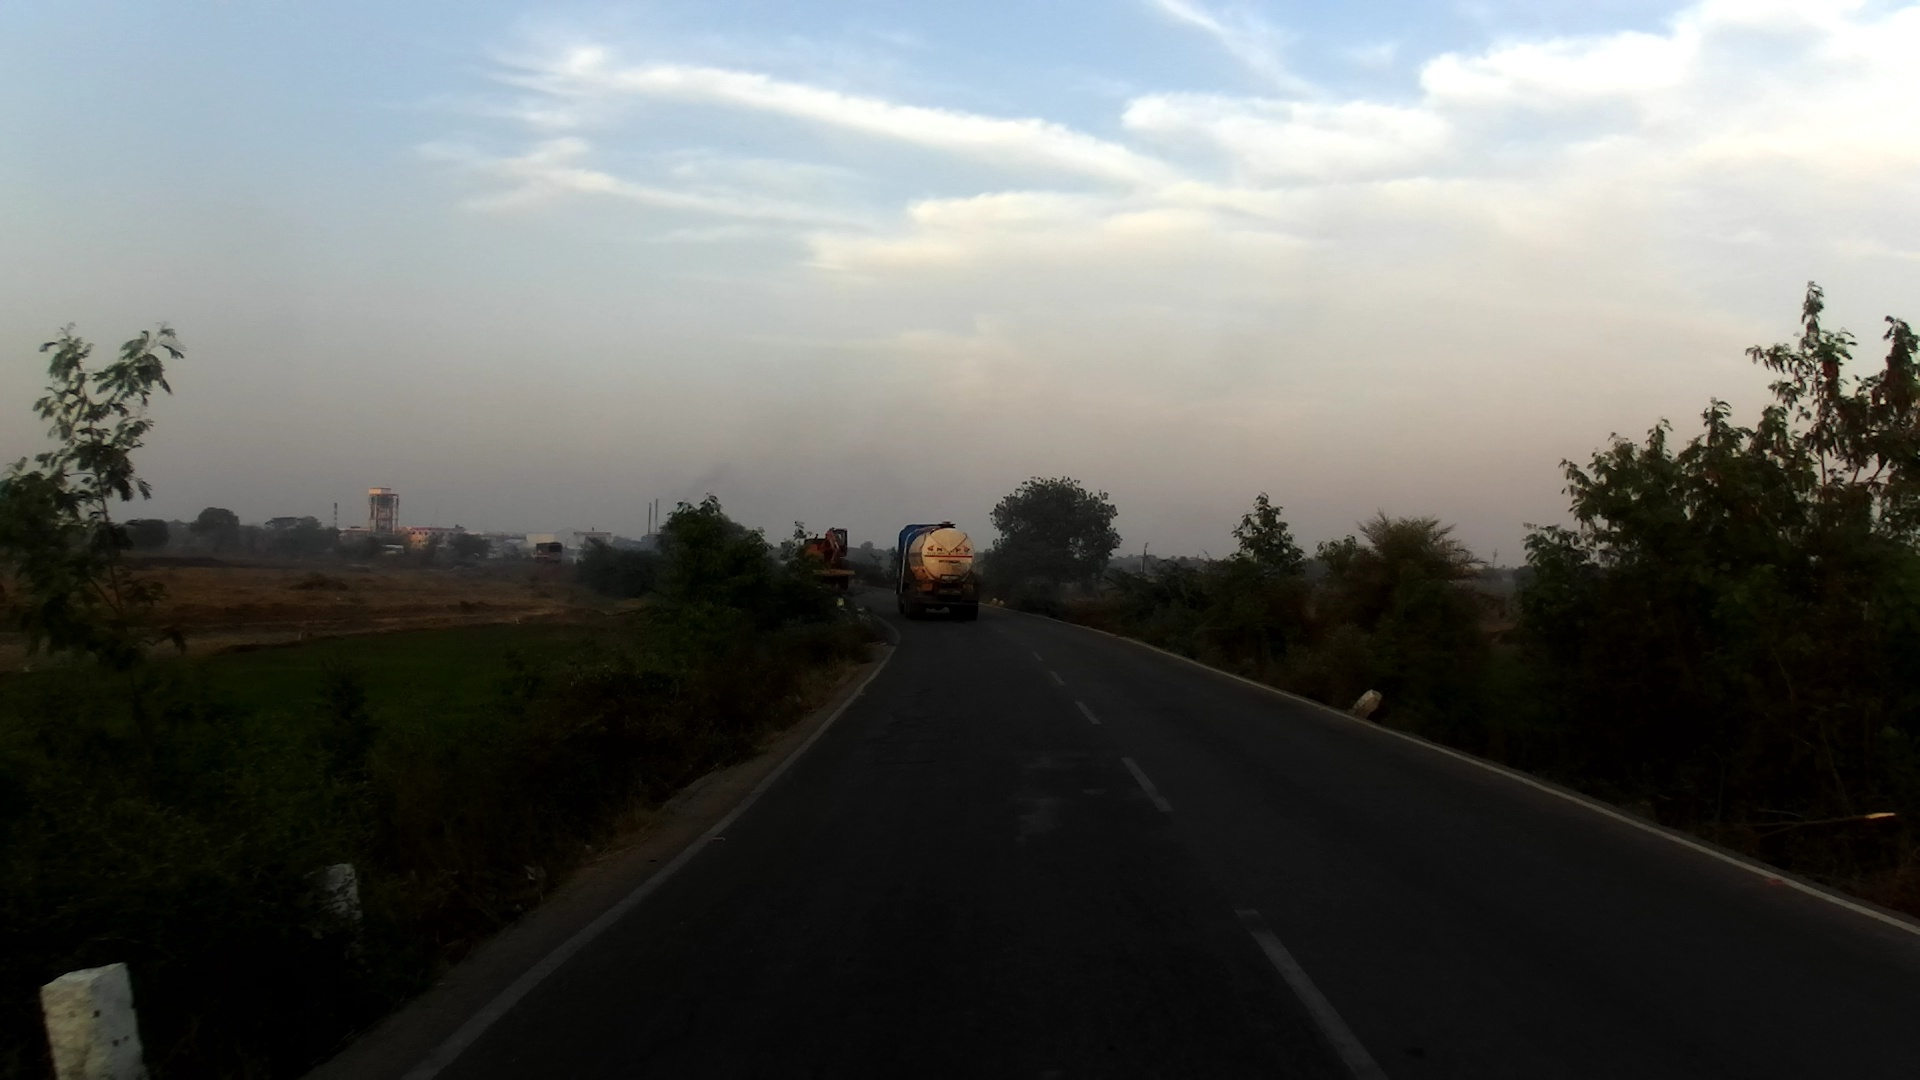truck: (894, 522, 988, 633), (796, 526, 858, 607)
